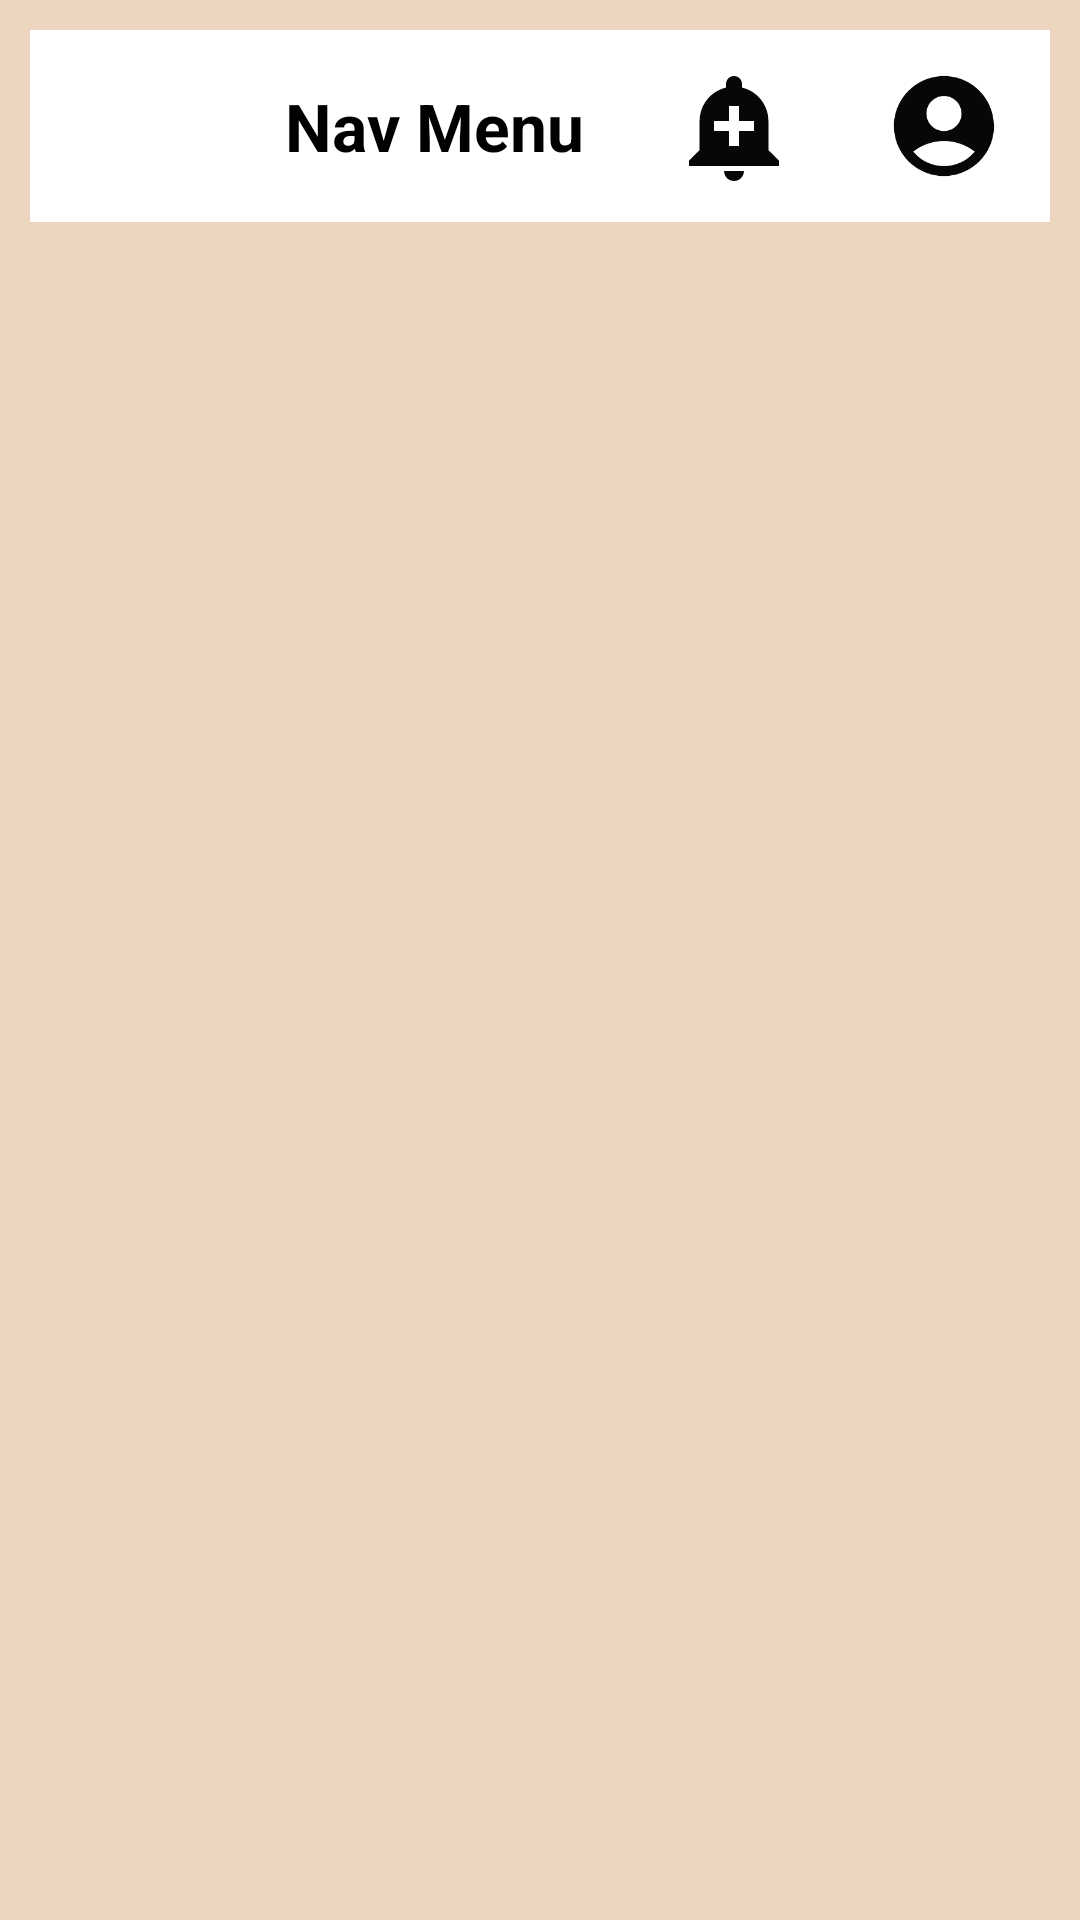

Locate icon controls on the screen. Image size 1080px×1920px, boxes as (x1, y1, x2, y2).
account circle: (893, 76, 995, 176)
add alert: (689, 76, 779, 181)
